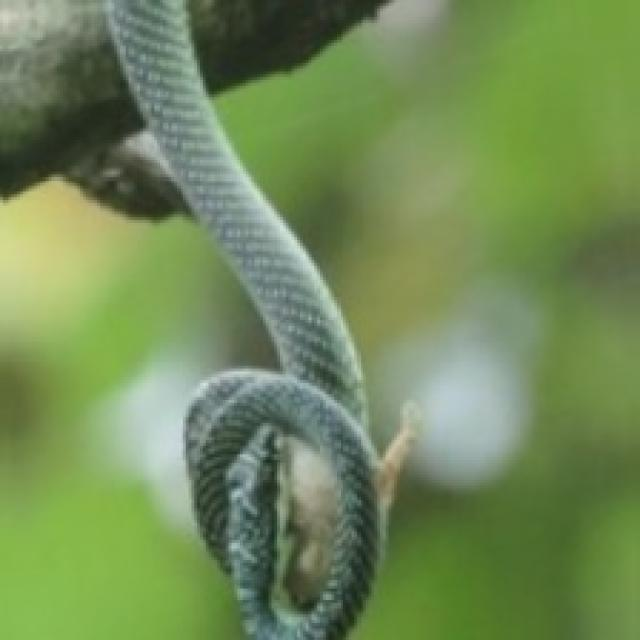paradise tree snake: (103, 0, 411, 637), (109, 0, 409, 637)
